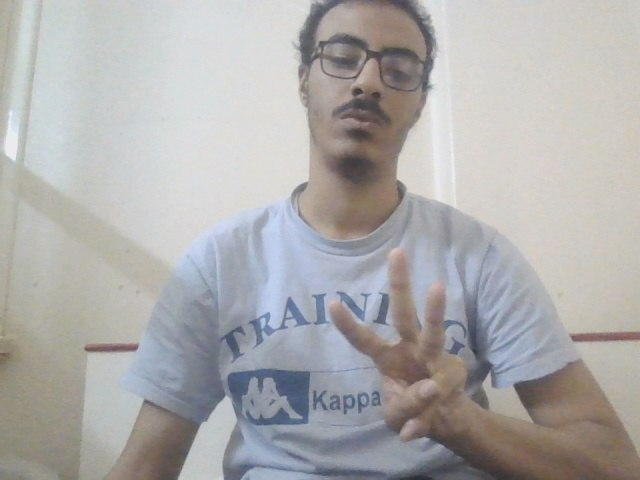Water: (322, 243, 487, 456)
